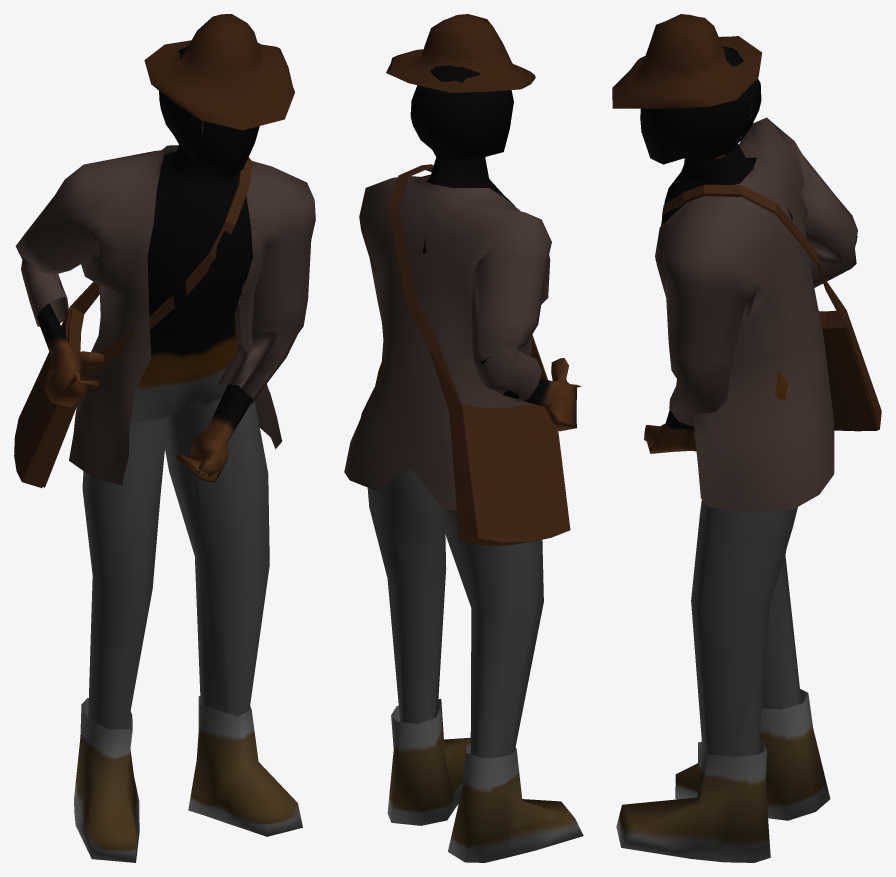
The model's file is rightyHo_6.obj.
The picture shows the model from 3 angles, left to right: view 1: azimuth 30°, elevation 25°; view 2: azimuth 150°, elevation 25°; view 3: azimuth 270°, elevation 25°; orthographic projection. The views are drawn at different scales.
Visible parts, largest first — view 1: Default_Body_Cube, Jacket_Cube.004, Default_Body.001_Cube.001, Hat_Cube.005, MessengerBag_Circle; view 2: Jacket_Cube.004, Default_Body_Cube, MessengerBag_Circle, Default_Body.001_Cube.001, Hat_Cube.005; view 3: Jacket_Cube.004, Default_Body_Cube, Default_Body.001_Cube.001, Hat_Cube.005, MessengerBag_Circle.
Boxes of the visible parts, bbox=[...] form: Default_Body_Cube: bbox=[37, 46, 269, 808]; Jacket_Cube.004: bbox=[15, 145, 315, 485]; Default_Body.001_Cube.001: bbox=[74, 696, 302, 862]; Hat_Cube.005: bbox=[144, 14, 294, 130]; MessengerBag_Circle: bbox=[14, 157, 251, 487]; Jacket_Cube.004: bbox=[344, 174, 551, 510]; Default_Body_Cube: bbox=[367, 65, 581, 838]; MessengerBag_Circle: bbox=[387, 164, 570, 545]; Default_Body.001_Cube.001: bbox=[387, 699, 583, 862]; Hat_Cube.005: bbox=[386, 14, 535, 92]; Jacket_Cube.004: bbox=[655, 117, 857, 511]; Default_Body_Cube: bbox=[640, 46, 857, 756]; Default_Body.001_Cube.001: bbox=[616, 689, 830, 862]; Hat_Cube.005: bbox=[612, 14, 762, 108]; MessengerBag_Circle: bbox=[662, 184, 881, 431].
Size of the model in its own units: 1.84 by 5.71 by 1.68.
